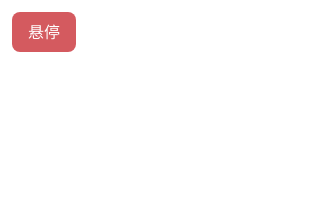
Test case: Dropdown › 应该支持hover触发
The width and height of the screenshot is (332, 197).
Hover over the button "悬停" at {"x": 44, "y": 32}, box [12,12,76,52]
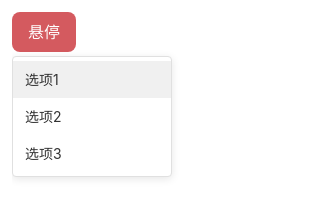
Expected: the text "选项1" is shown, [25,69,59,90]
